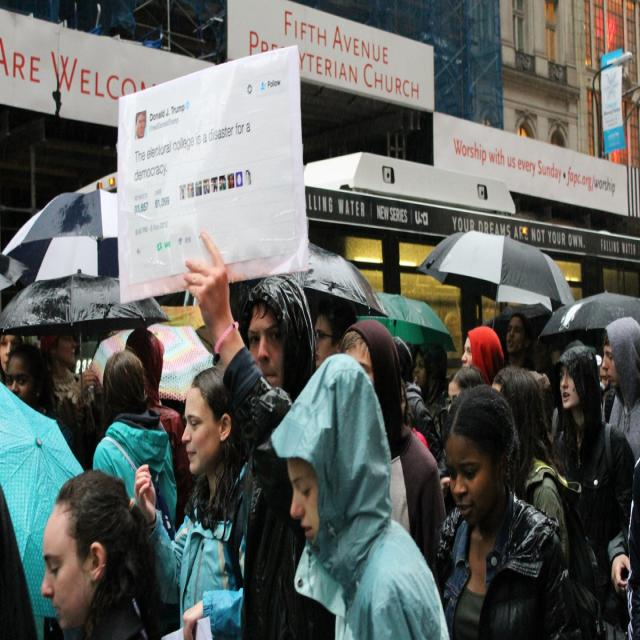body: (182, 229, 335, 640), (267, 349, 453, 640), (428, 377, 583, 639), (392, 297, 608, 465), (133, 363, 254, 640), (337, 314, 448, 571), (549, 342, 636, 634), (39, 467, 152, 639), (490, 364, 571, 582), (92, 350, 179, 547), (5, 342, 78, 458), (0, 326, 95, 415), (125, 324, 187, 423), (601, 315, 640, 465), (607, 456, 638, 638), (312, 294, 353, 377), (130, 108, 148, 144)
